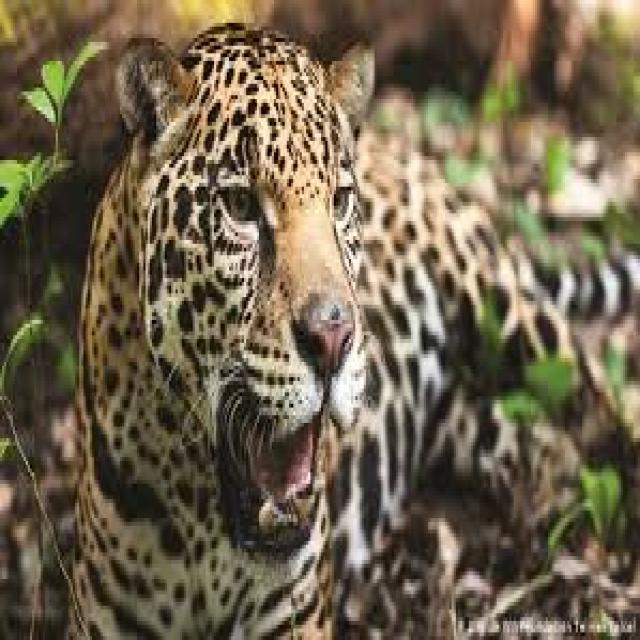Jaguar: (58, 19, 640, 640)
